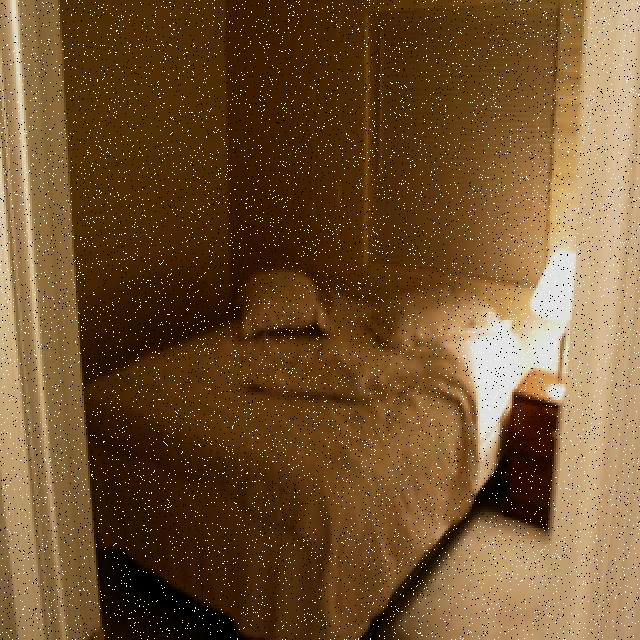bed: (88, 261, 524, 640)
